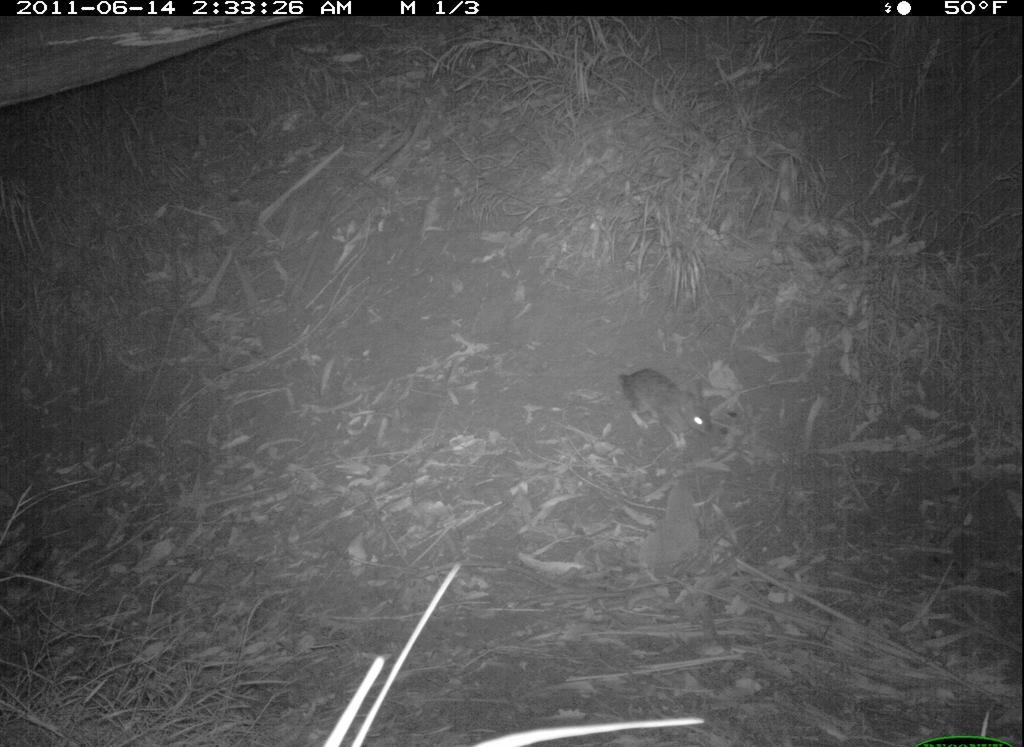rabbit: (607, 359, 731, 466)
